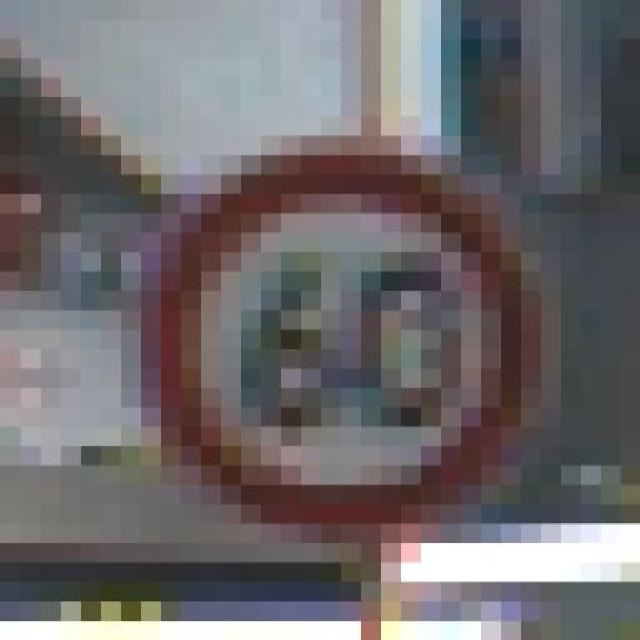forb_speed_over_60: (156, 146, 527, 519)
